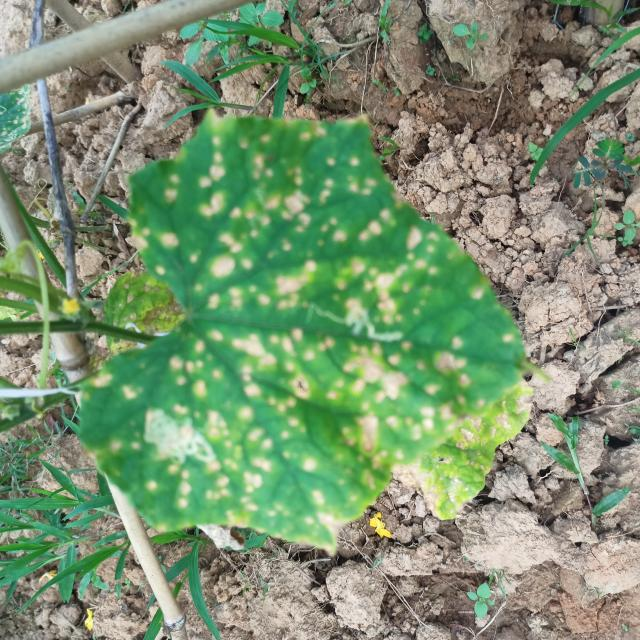disease_cucumber: (111, 126, 475, 548)
